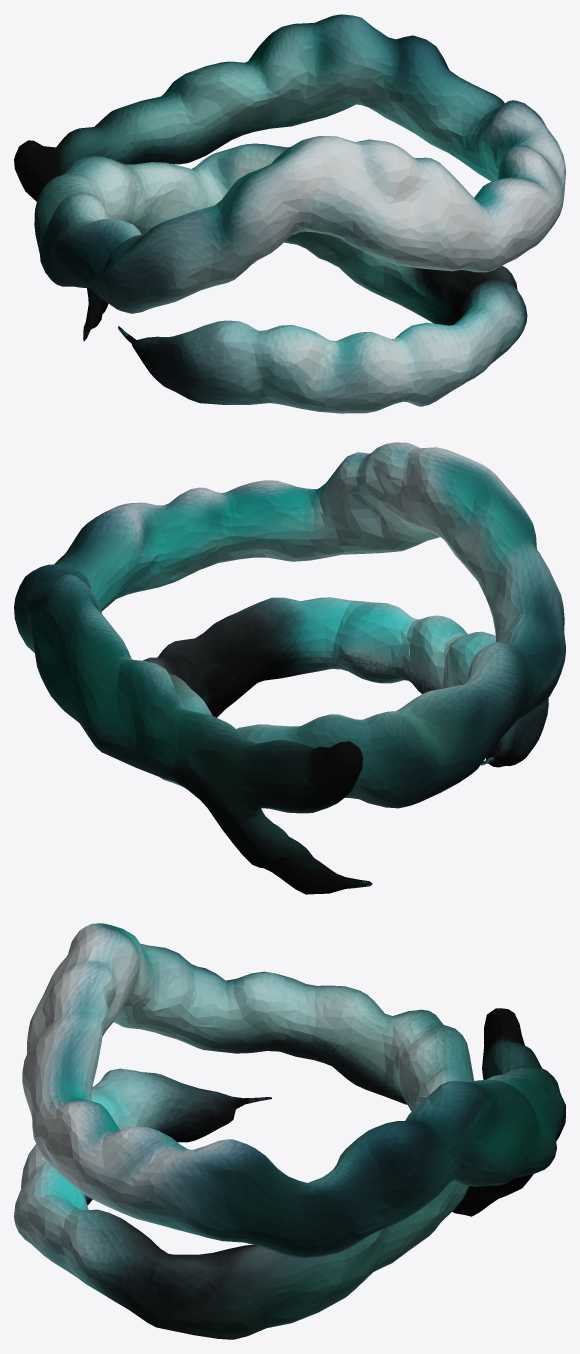
Rendered from organic-cotton-makeup-remover-pads-futuristic.jpeg.glb.
3 renders of one model, top to bottom at view 1: azimuth 30°, elevation 25°; view 2: azimuth 150°, elevation 25°; view 3: azimuth 270°, elevation 25°, orthographic. The views are drawn at different scales.
Visible parts, largest first — view 1: world; view 2: world; view 3: world.
Part boxes in pixels (x1,y1,x2,y2): world: (14,14,565,413); world: (14,442,565,894); world: (14,923,565,1339).
Bounding box in the file's own units: 0.9994 × 0.6111 × 0.9946.
1 material, 1 textured.
